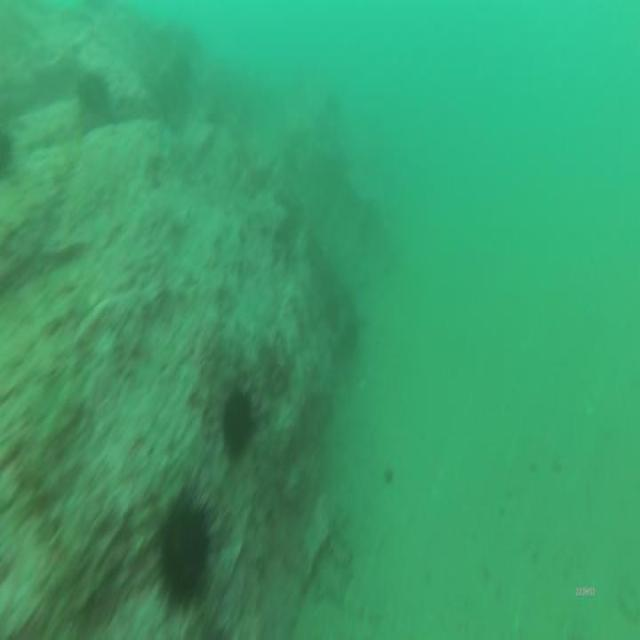echinus: (160, 509, 209, 594), (222, 392, 252, 457), (78, 70, 108, 112)
